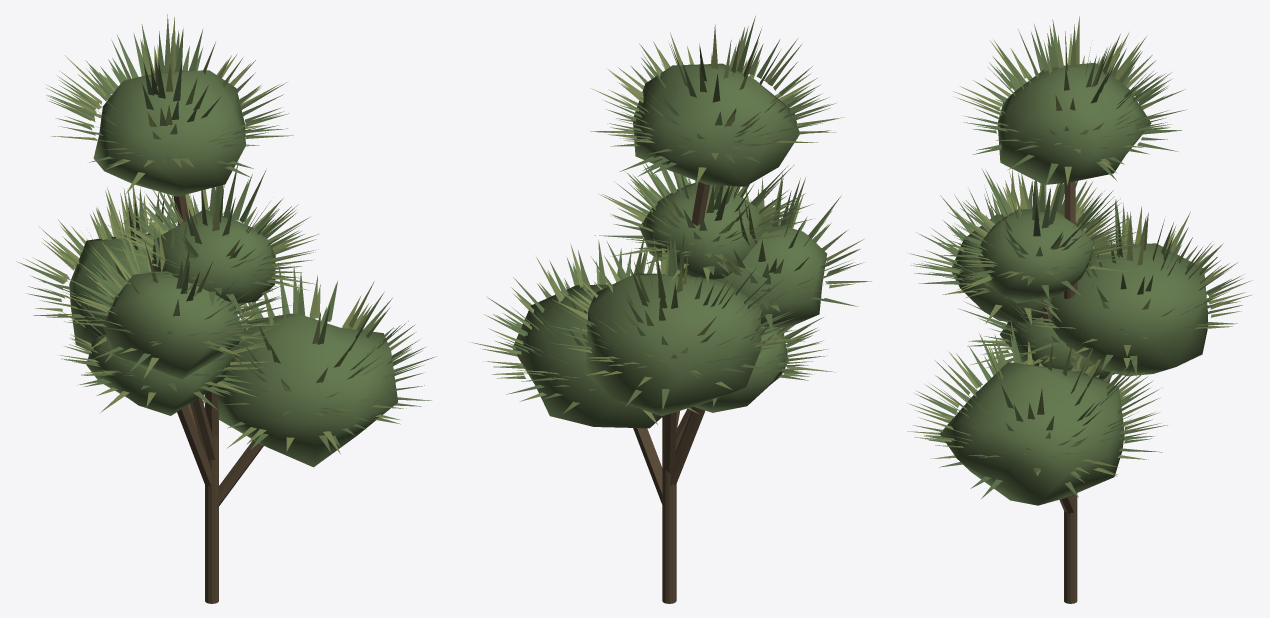
The model's file is baseline_cluster.glb.
The picture shows the model from 3 angles, left to right: view 1: azimuth 30°, elevation 25°; view 2: azimuth 150°, elevation 25°; view 3: azimuth 270°, elevation 25°; orthographic projection. The views are drawn at different scales.
Visible parts, largest first — view 1: street_surround_shrub_trunk; view 2: street_surround_shrub_trunk; view 3: street_surround_shrub_trunk.
Part boxes in pixels (bbox=[...]): street_surround_shrub_trunk: bbox=[16, 14, 436, 603]; street_surround_shrub_trunk: bbox=[471, 16, 871, 603]; street_surround_shrub_trunk: bbox=[907, 16, 1252, 603].
Size of the model in its own units: 0.7269 by 1.17 by 0.6718.
